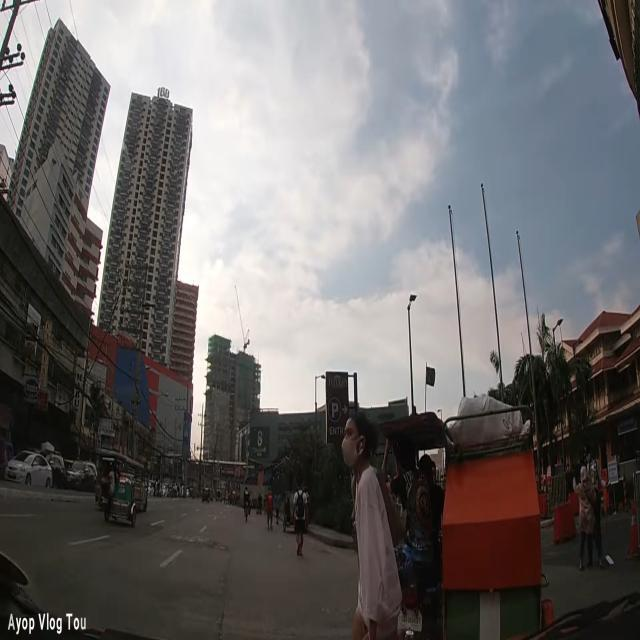bike: (243, 486, 251, 522)
car: (5, 451, 55, 488), (64, 459, 98, 492), (43, 452, 65, 489)
jeepney: (94, 448, 148, 516), (202, 487, 210, 503)
tricycle: (380, 393, 556, 640), (282, 481, 310, 532)
